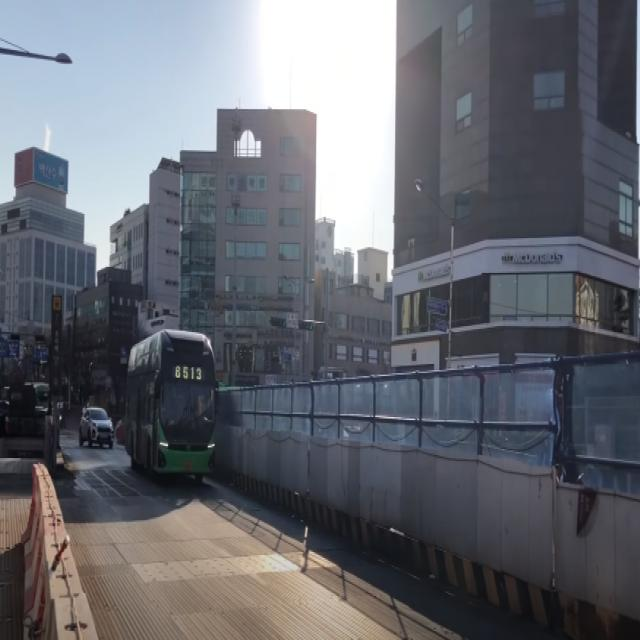bus-number: (175, 364, 202, 382)
